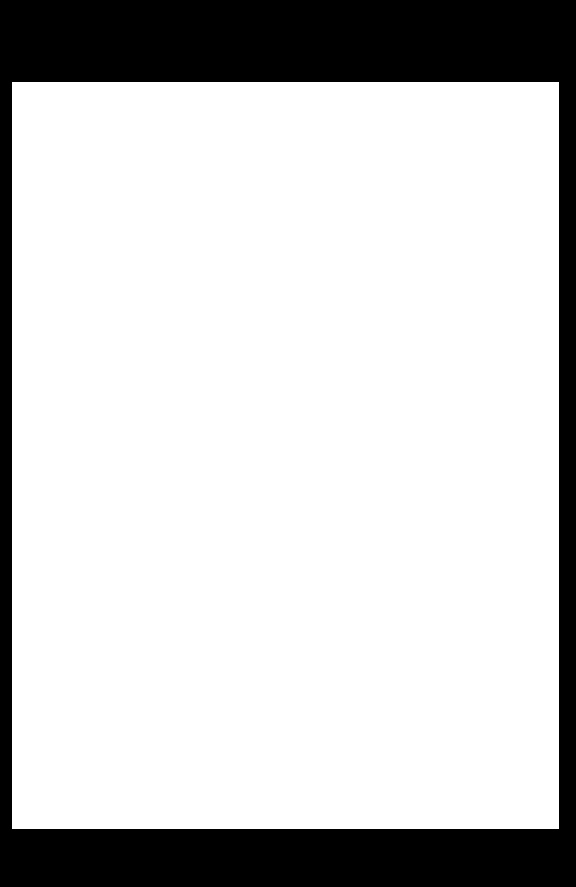table: (12, 82, 558, 828)
